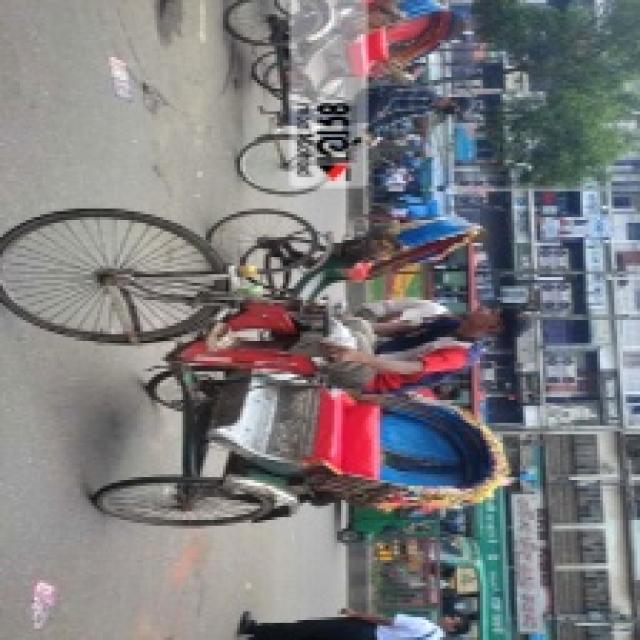rickshaw: (33, 204, 502, 514), (239, 11, 475, 197), (222, 205, 494, 298)
